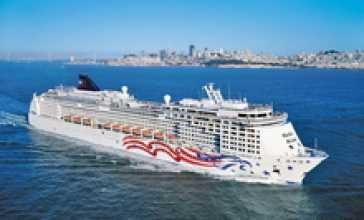youlun: (28, 67, 326, 185)
